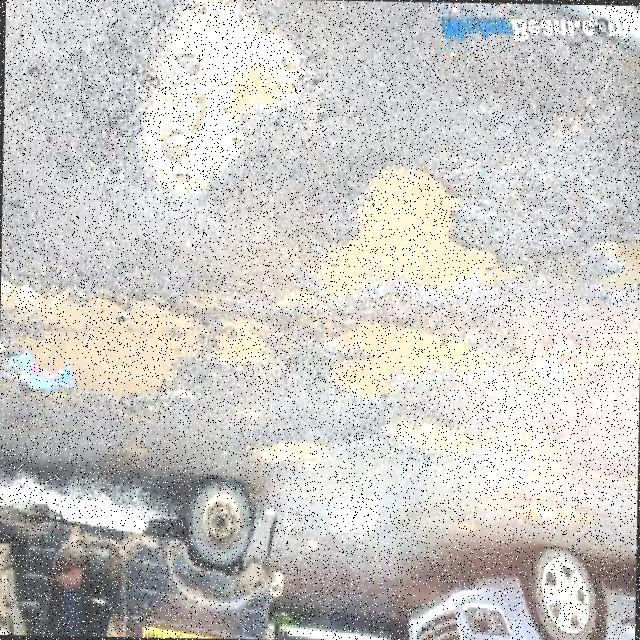Pothole: (323, 167, 522, 294), (149, 24, 298, 192), (0, 281, 193, 396), (331, 321, 480, 395), (214, 318, 271, 364)
